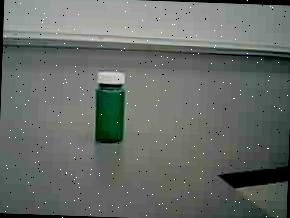Bottle C: (87, 65, 135, 148)
